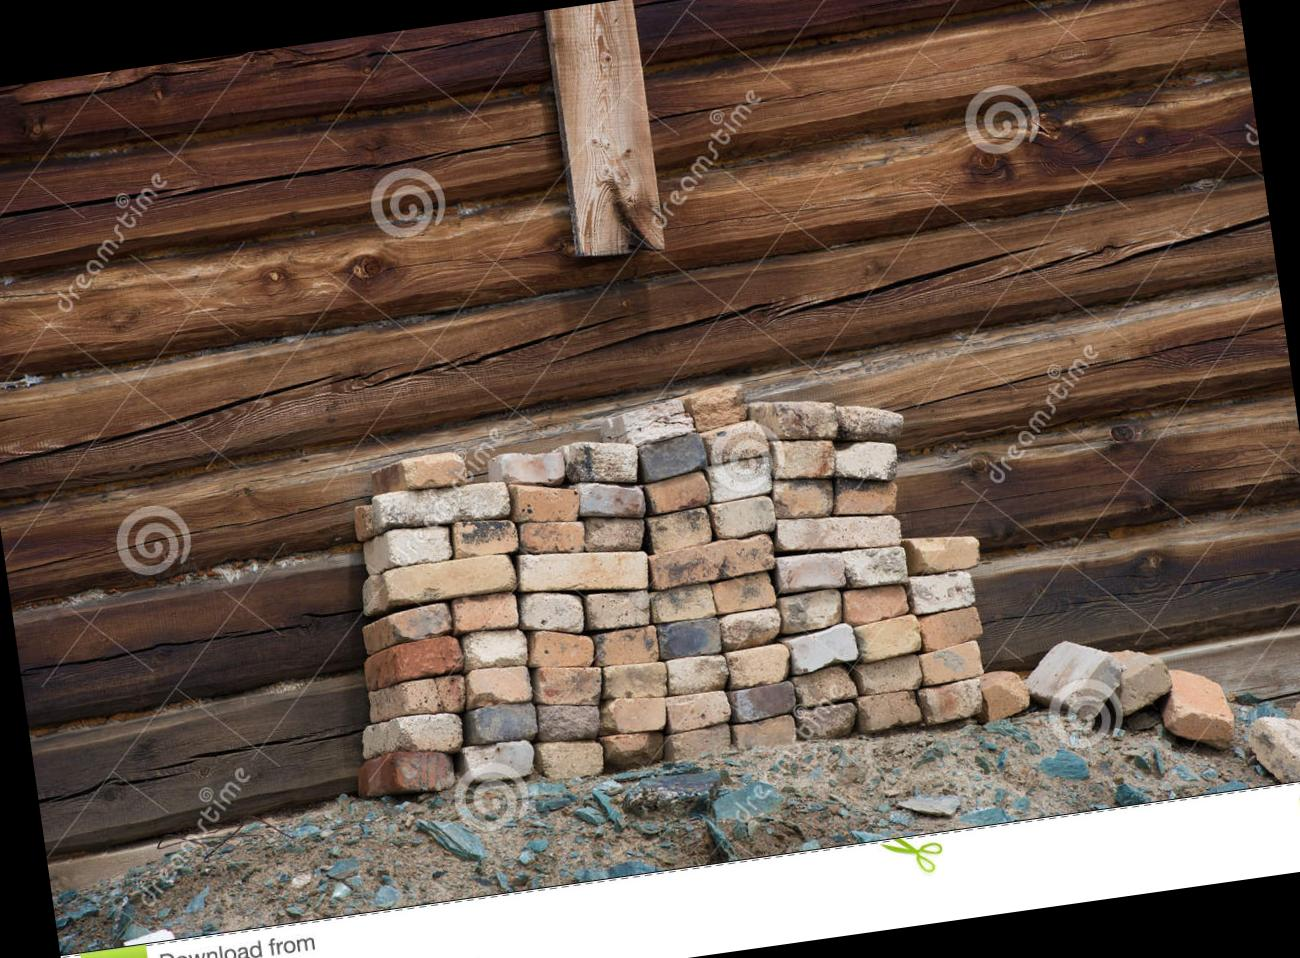brick: (517, 537, 651, 605), (376, 476, 513, 533), (774, 503, 903, 561), (648, 533, 776, 590), (386, 551, 518, 605), (748, 391, 840, 446), (563, 433, 641, 489), (788, 622, 860, 673), (536, 658, 605, 712), (637, 431, 709, 482), (511, 477, 581, 528), (461, 661, 534, 710), (519, 587, 585, 639), (463, 737, 537, 784), (829, 471, 900, 520), (622, 398, 696, 444), (577, 475, 647, 525), (681, 384, 752, 432), (838, 398, 906, 447), (855, 613, 924, 662), (769, 433, 838, 482), (527, 624, 595, 672), (833, 437, 900, 486), (398, 709, 465, 757), (918, 676, 986, 725), (910, 529, 982, 574), (775, 549, 847, 595), (394, 634, 465, 679), (460, 626, 530, 672), (536, 697, 603, 745), (726, 642, 793, 689), (451, 513, 520, 559), (770, 473, 836, 522), (385, 522, 452, 568), (518, 515, 588, 559), (471, 700, 540, 745), (393, 744, 455, 793), (702, 418, 769, 464), (585, 587, 652, 633), (910, 568, 977, 615), (707, 456, 773, 502), (581, 511, 648, 556), (604, 658, 670, 704), (917, 640, 984, 685), (710, 494, 777, 538), (779, 587, 844, 633), (646, 507, 712, 552), (540, 735, 606, 780), (451, 591, 520, 634), (500, 445, 566, 490), (401, 674, 468, 718), (665, 688, 733, 732), (844, 542, 908, 588), (918, 606, 983, 651), (657, 616, 723, 660), (730, 680, 798, 723), (592, 625, 659, 668), (842, 583, 909, 626), (389, 600, 453, 643), (712, 571, 777, 614), (856, 655, 923, 697), (665, 653, 730, 696), (401, 450, 468, 491), (646, 471, 712, 513), (793, 702, 860, 742), (793, 664, 858, 706), (857, 688, 922, 730), (608, 691, 669, 735), (721, 607, 783, 649), (649, 583, 716, 623), (604, 728, 666, 769), (664, 725, 733, 762), (732, 714, 796, 751), (982, 678, 1031, 721)
